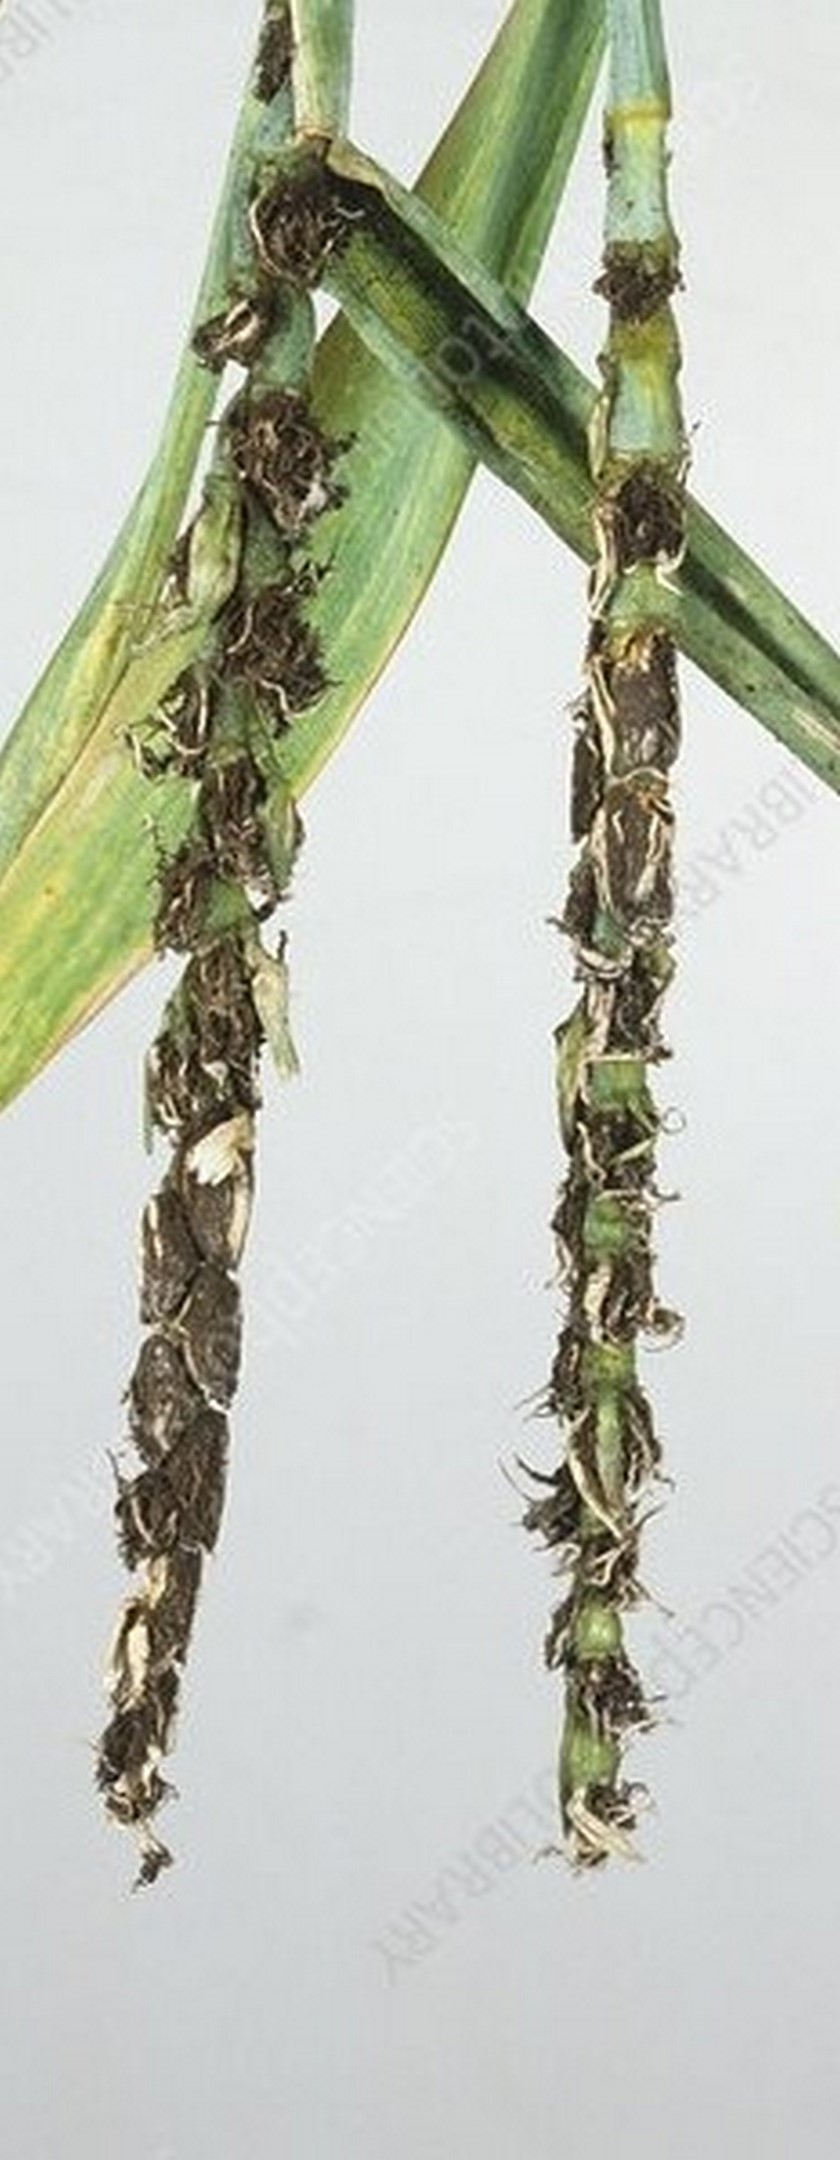Wheat Loose Smut: (67, 384, 750, 1887)
